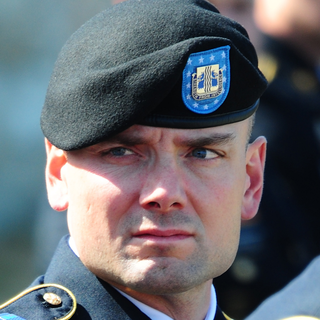eye: (87, 141, 145, 165), (179, 141, 226, 165)
